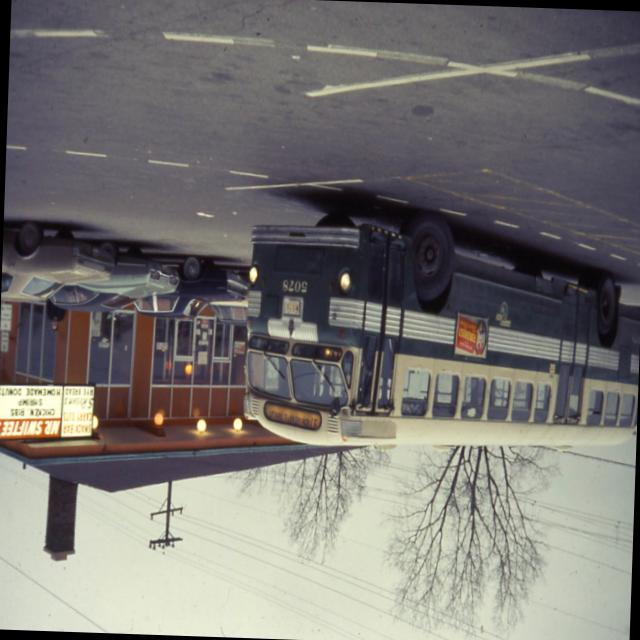bus: (241, 207, 640, 453)
